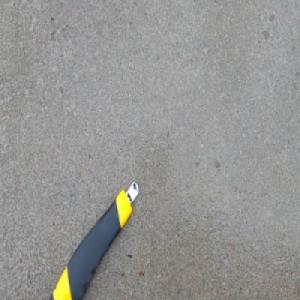Cutter: (48, 176, 139, 300)
